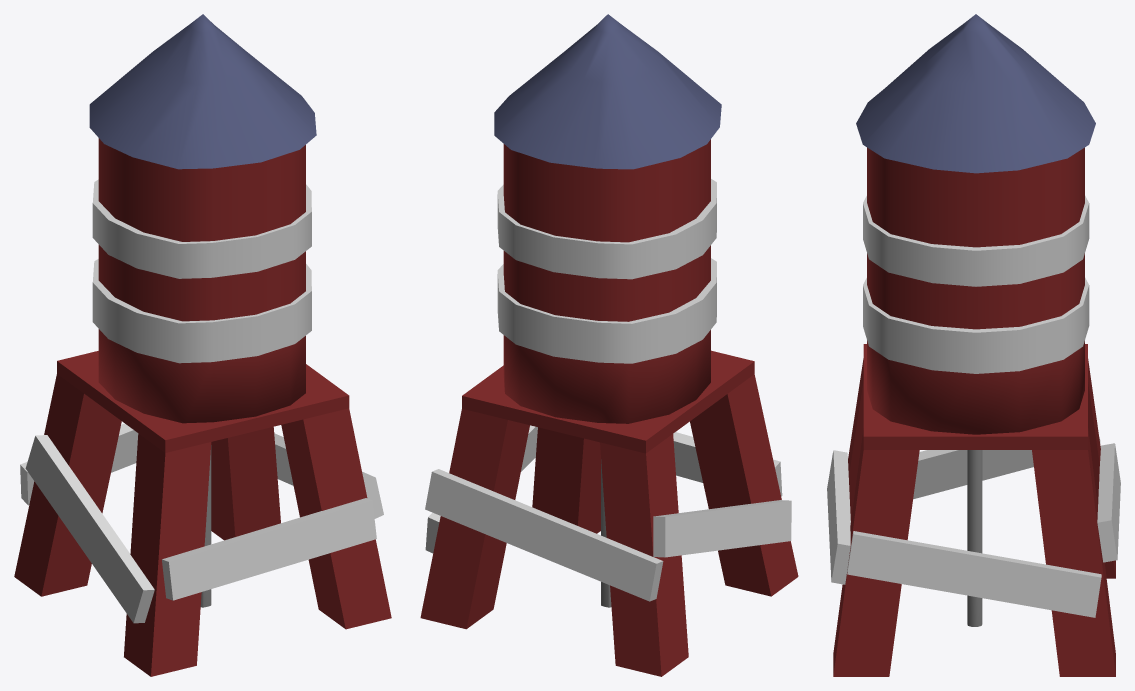
File: watertower.fbx
The picture shows the model from 3 angles, left to right: view 1: azimuth 30°, elevation 25°; view 2: azimuth 150°, elevation 25°; view 3: azimuth 270°, elevation 25°; orthographic projection. The views are drawn at different scales.
Parts seen in each view (by area): view 1: pasted__pCube6; view 2: pasted__pCube6; view 3: pasted__pCube6.
Boxes of the visible parts, <box> form: pasted__pCube6: <box>14,14,391,676</box>; pasted__pCube6: <box>420,14,798,676</box>; pasted__pCube6: <box>827,14,1120,676</box>.
Bounding box in the file's own units: 1.93 × 4.35 × 1.9.
